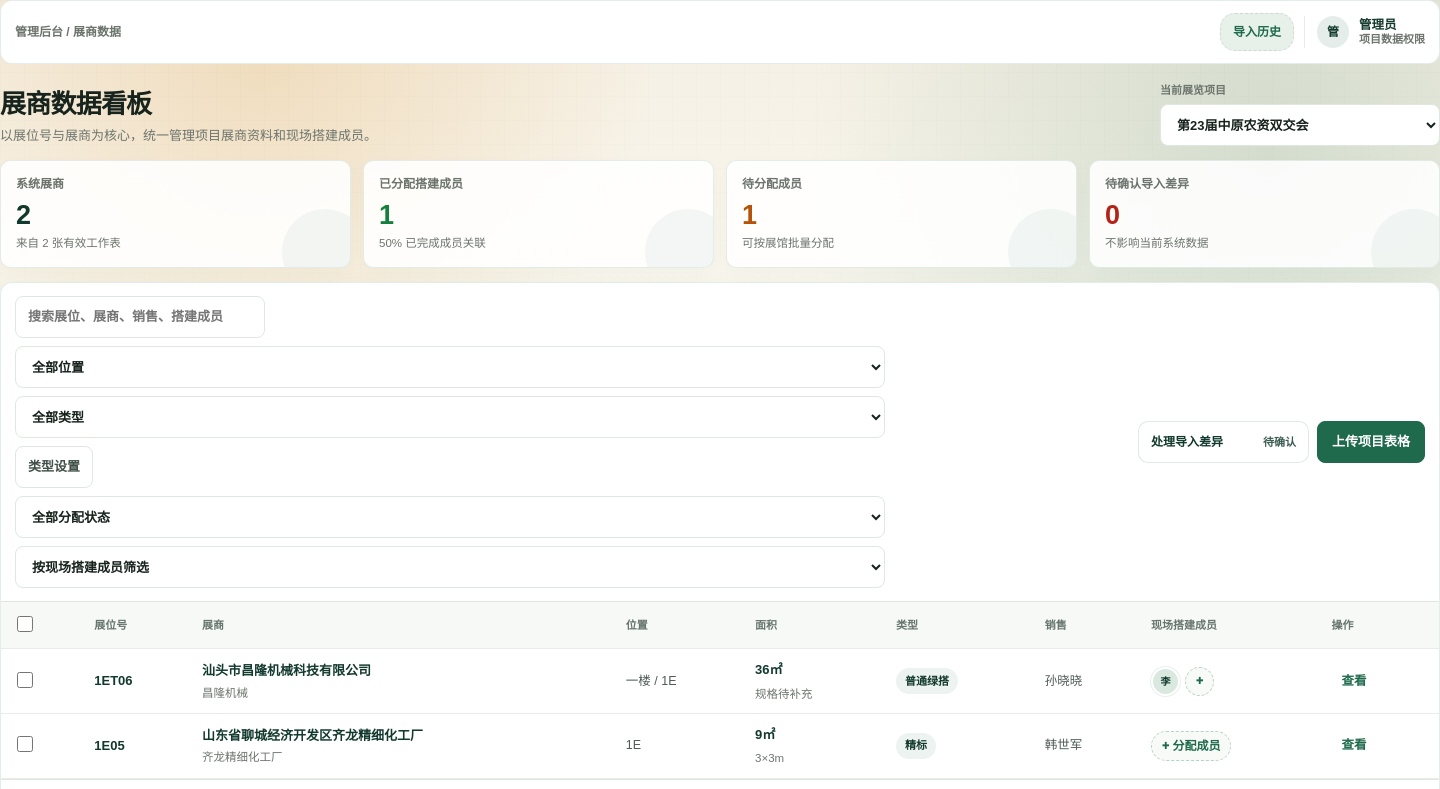
ExhibitorDashboard › uses an alertdialog for batch disable and cancels with Escape
Click the checkbox named "选择汕头市昌隆机械科技有限公司".
click(25, 680)  # box [17,672,33,688]
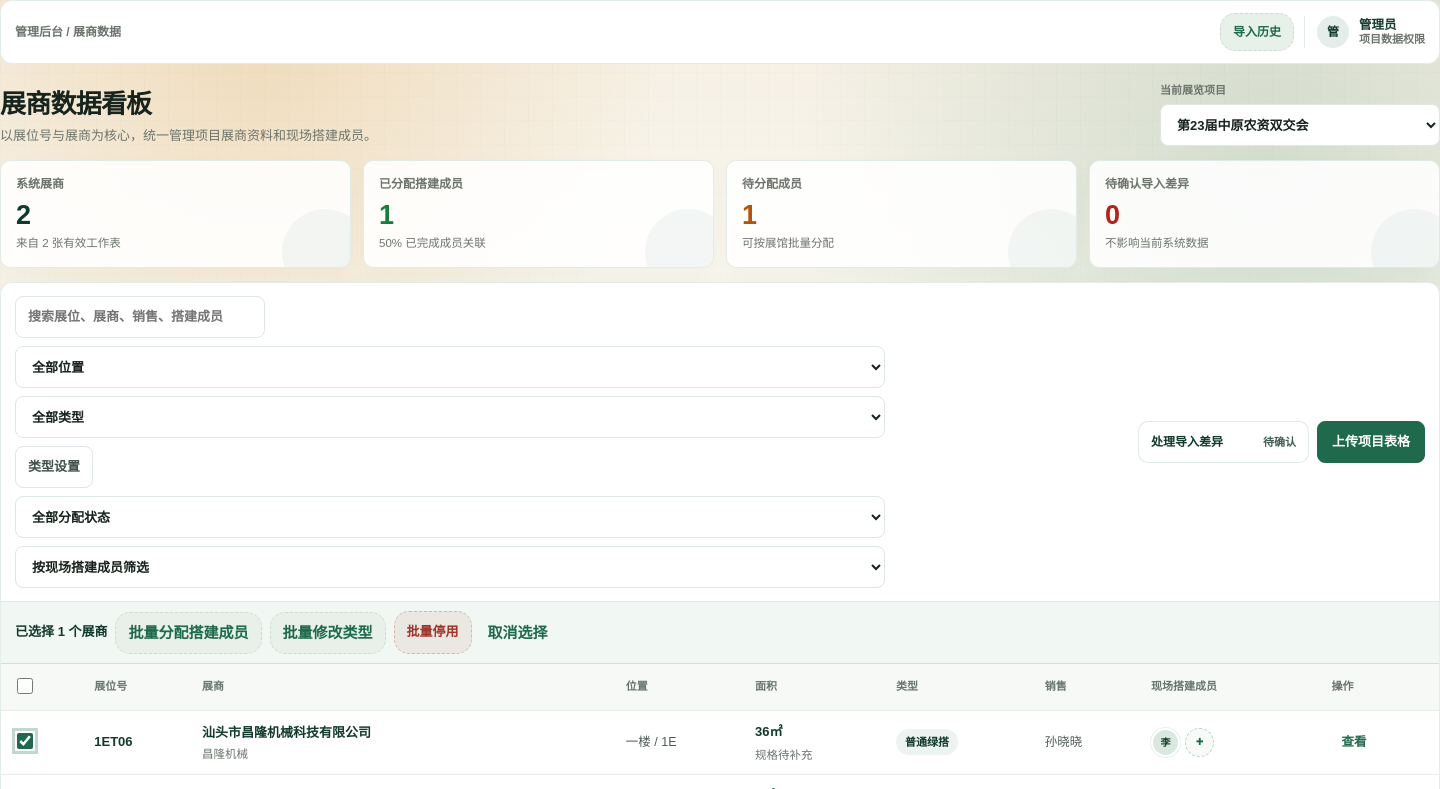
Click the button "批量停用".
click(432, 632)  # box [394,611,472,654]
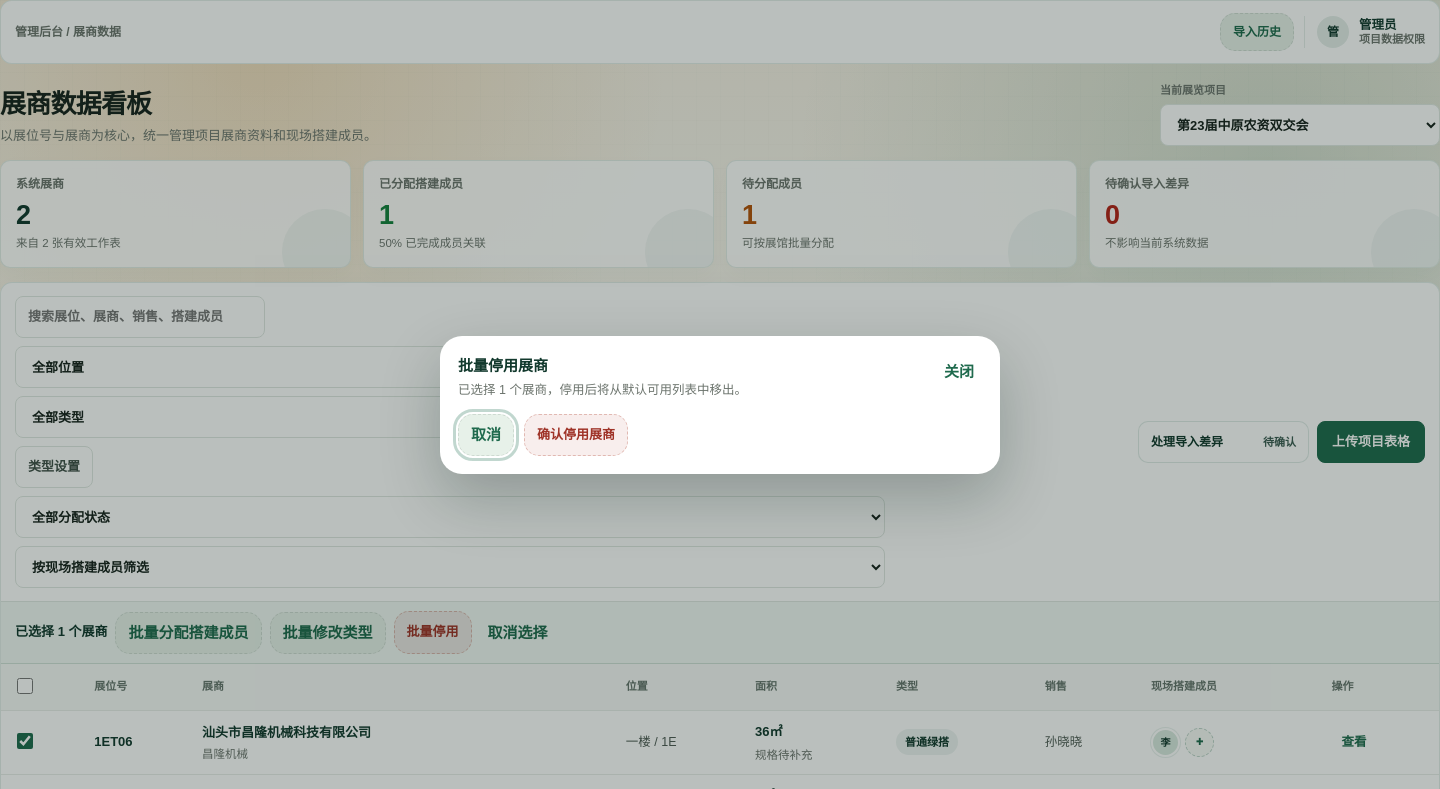
Press Escape
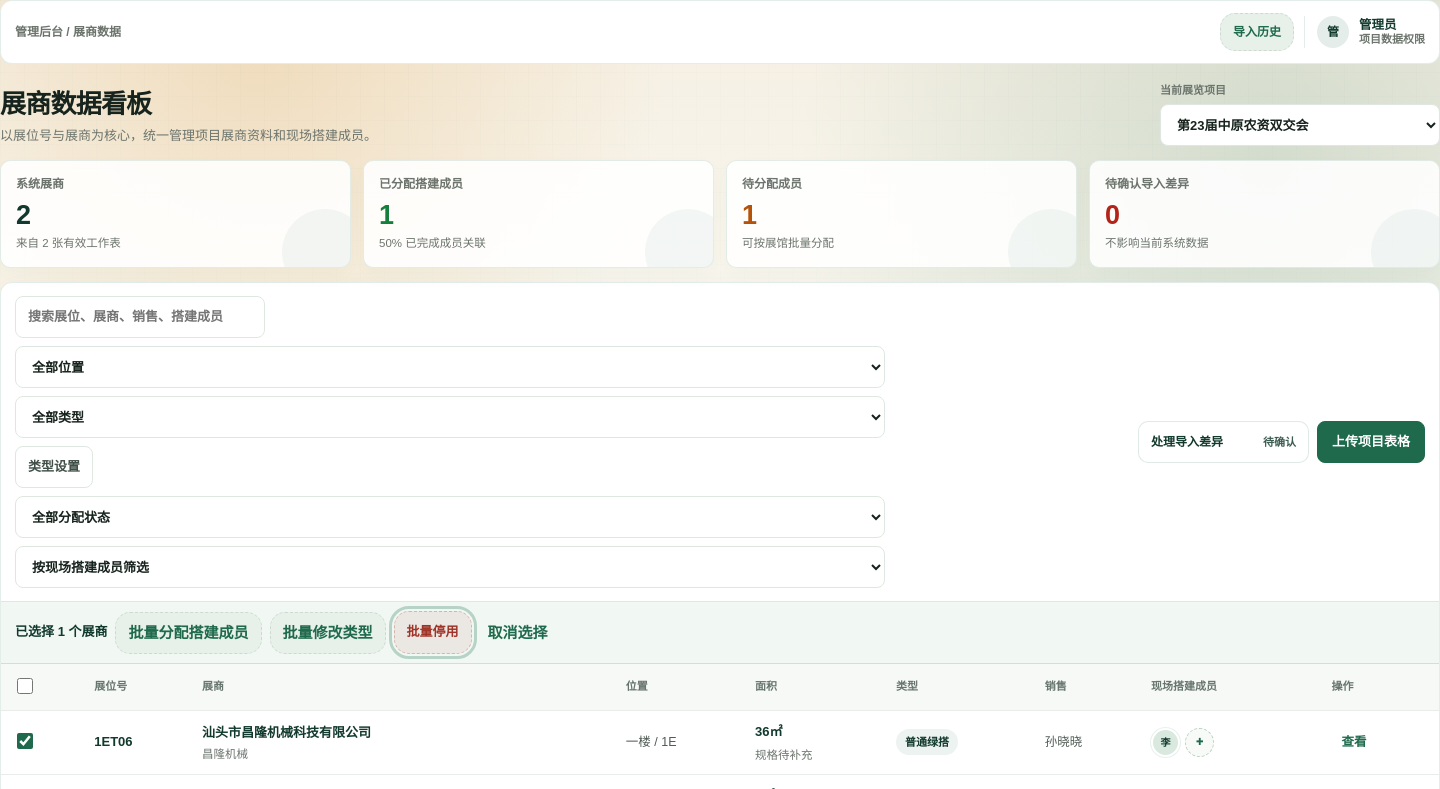
Result: the heading "批量停用展商" is gone
